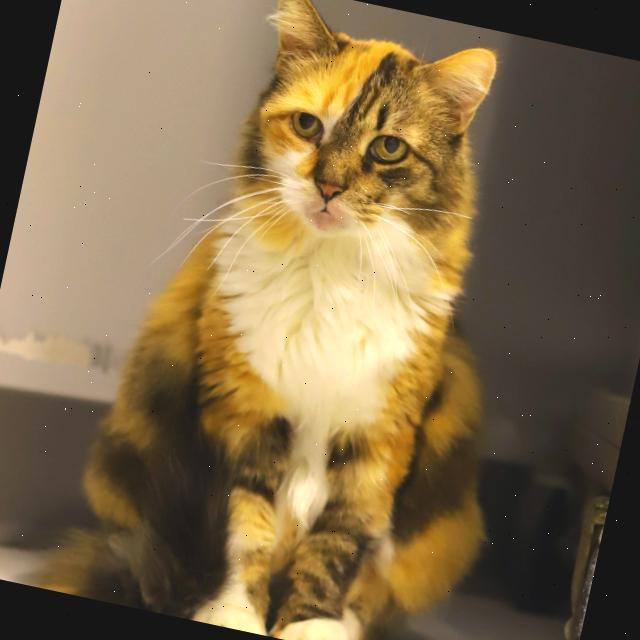calico_cat: (185, 0, 513, 317)
